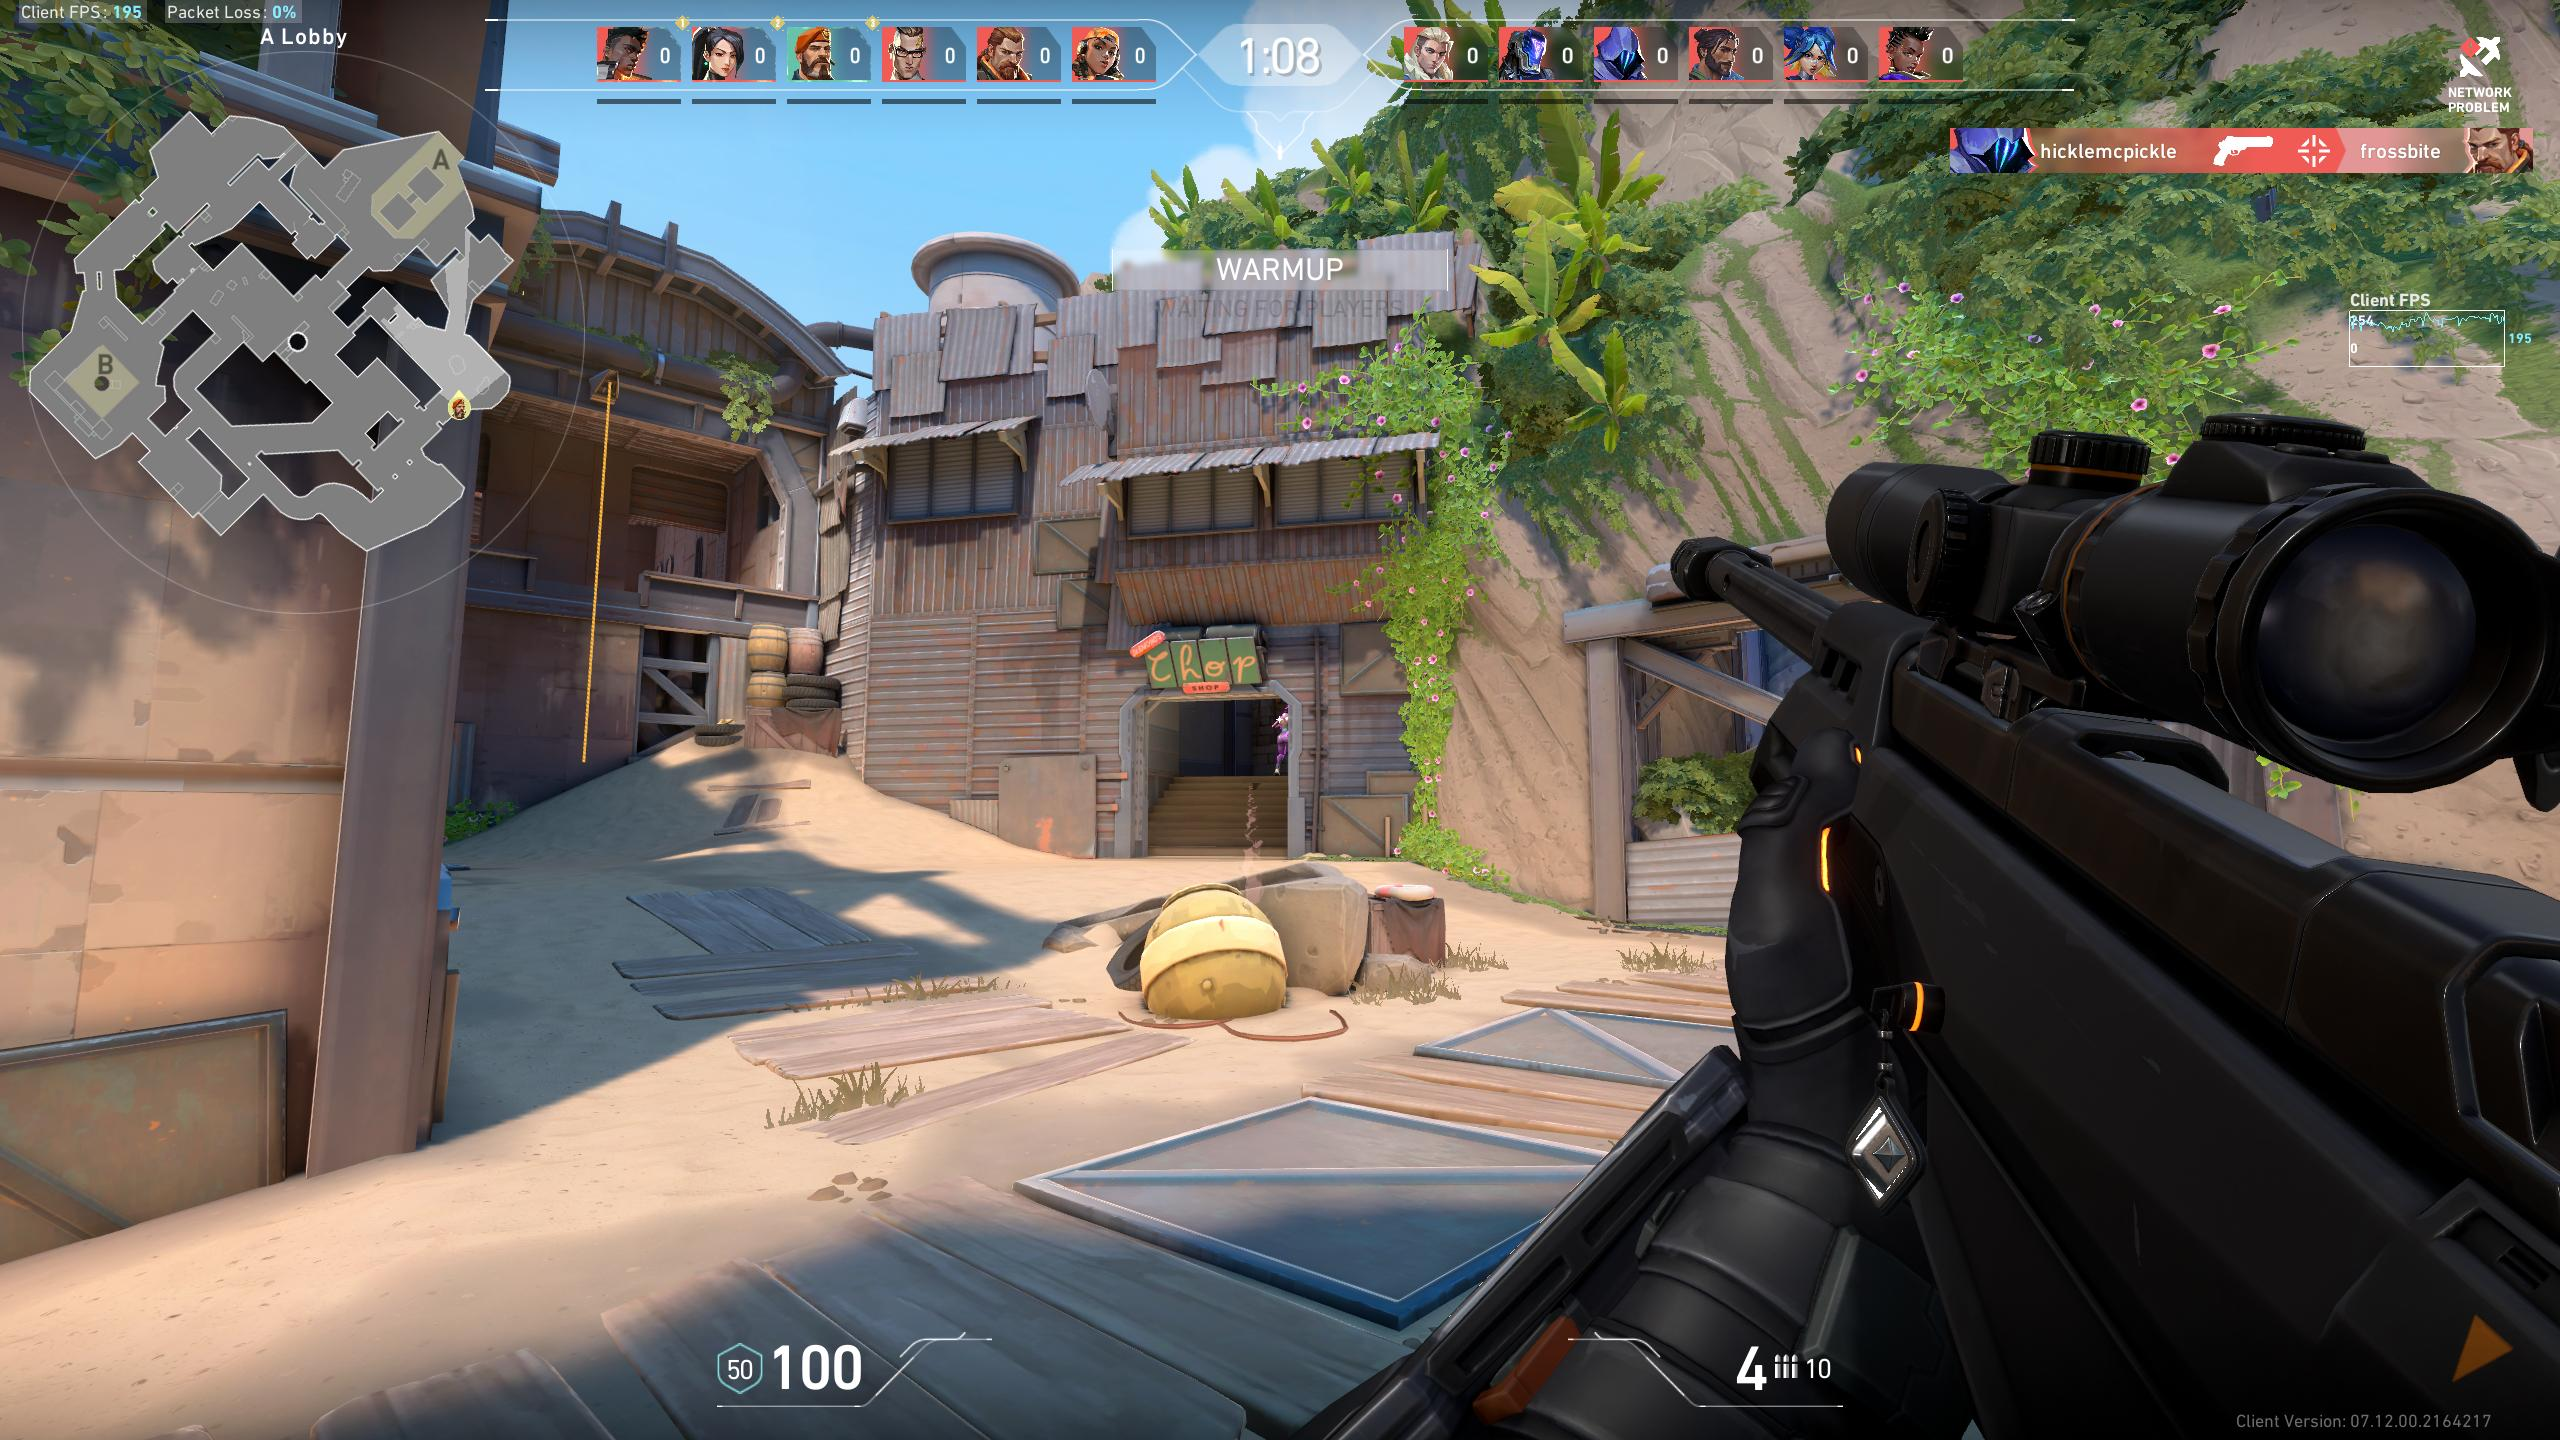enemyBody: (1276, 714, 1296, 763)
